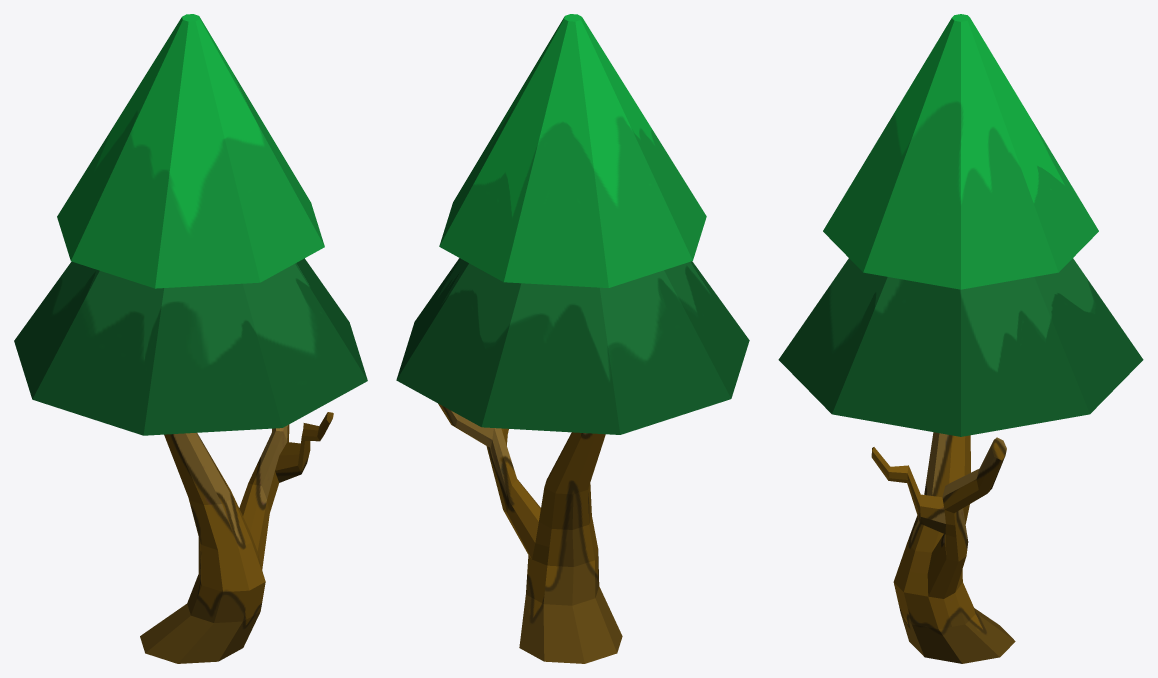
File: Mini Tree.fbx
The picture shows the model from 3 angles, left to right: view 1: azimuth 30°, elevation 25°; view 2: azimuth 150°, elevation 25°; view 3: azimuth 270°, elevation 25°; orthographic projection.
Parts seen in each view (by area): view 1: Cylinder; view 2: Cylinder; view 3: Cylinder.
Boxes of the visible parts, box(x1,y1,x2,y2) form: Cylinder: box(14, 14, 367, 663); Cylinder: box(396, 14, 749, 663); Cylinder: box(778, 14, 1143, 663).
Bounding box in the file's own units: 233 × 438 × 233.
